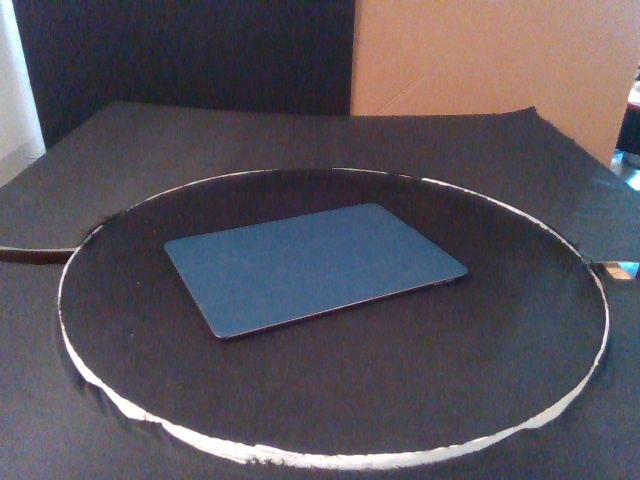laptop: (162, 200, 470, 344)
